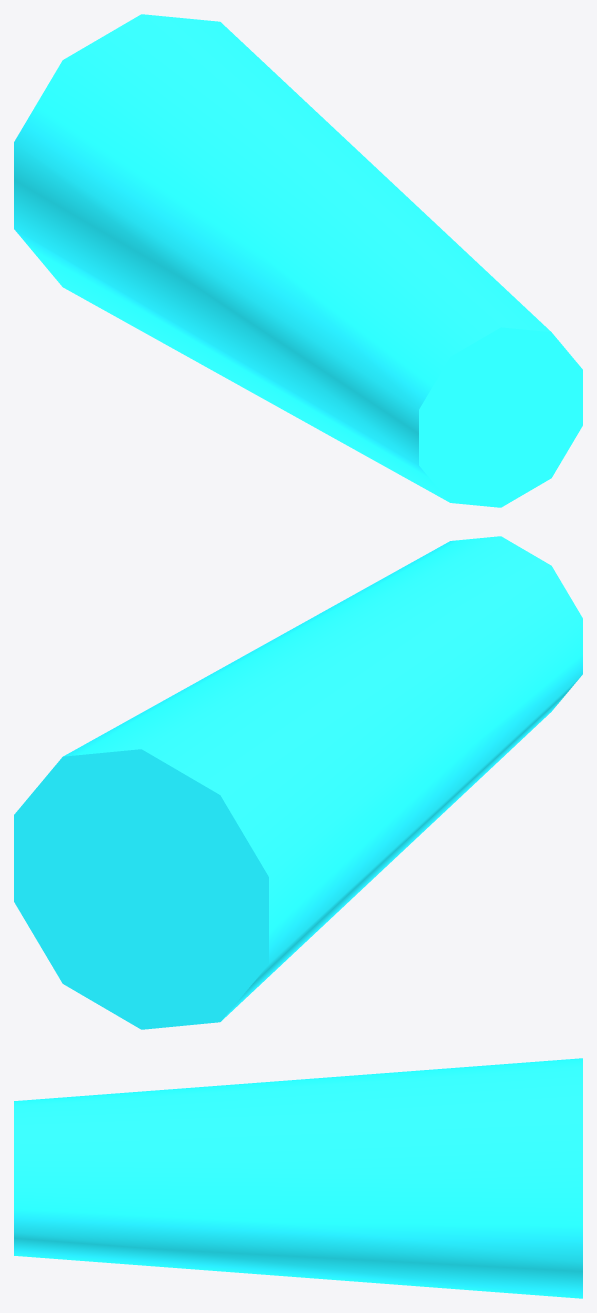
Rendered from laser.glb.
3 renders of one model, top to bottom at view 1: azimuth 30°, elevation 25°; view 2: azimuth 150°, elevation 25°; view 3: azimuth 270°, elevation 25°, orthographic. The views are drawn at different scales.
Parts seen in each view (by area): view 1: laser; view 2: laser; view 3: laser.
Boxes of the visible parts, box(x1,y1,x2,y2) form: laser: box(14, 14, 582, 507); laser: box(14, 536, 582, 1029); laser: box(14, 1058, 582, 1298).
Size of the model in its own units: 0.5326 by 0.56 by 1.3.
